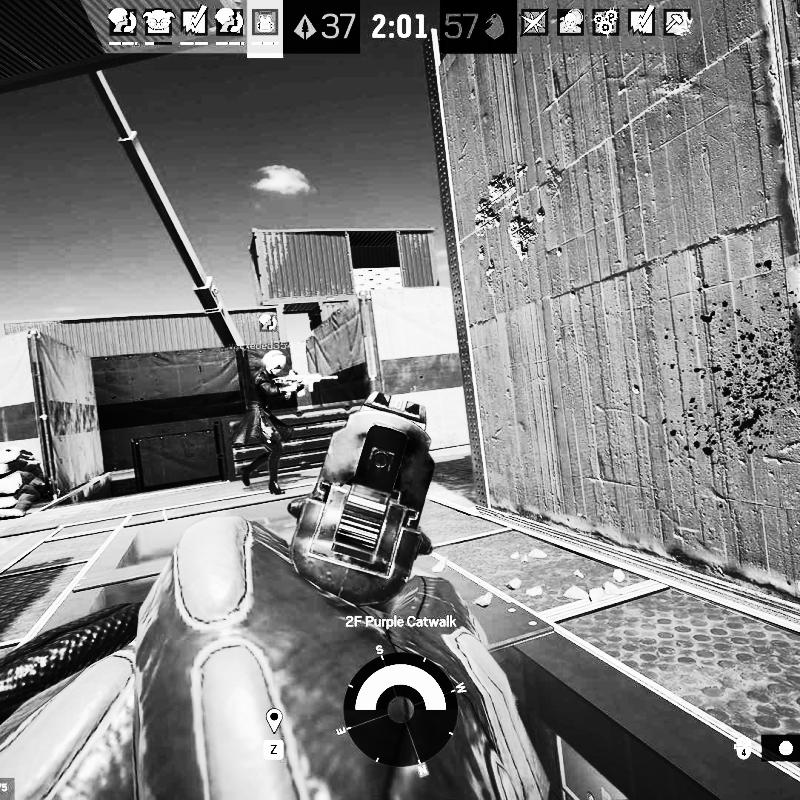Character: (234, 351, 322, 496)
Friend_label: (228, 312, 308, 350)
Head: (260, 351, 286, 377)
